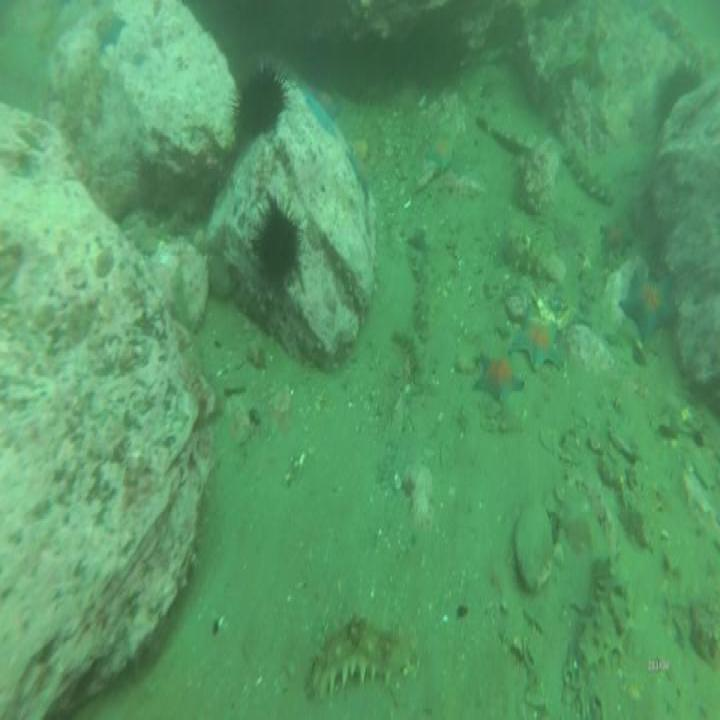echinus: (243, 188, 310, 306), (226, 64, 289, 144)
holothurian: (308, 614, 420, 702), (576, 551, 636, 670), (402, 242, 433, 386), (501, 224, 568, 288), (562, 139, 617, 213)
starfish: (621, 258, 679, 350), (513, 311, 569, 379), (472, 343, 525, 411), (595, 213, 637, 267), (423, 128, 458, 176), (94, 9, 127, 57), (313, 82, 342, 122)
